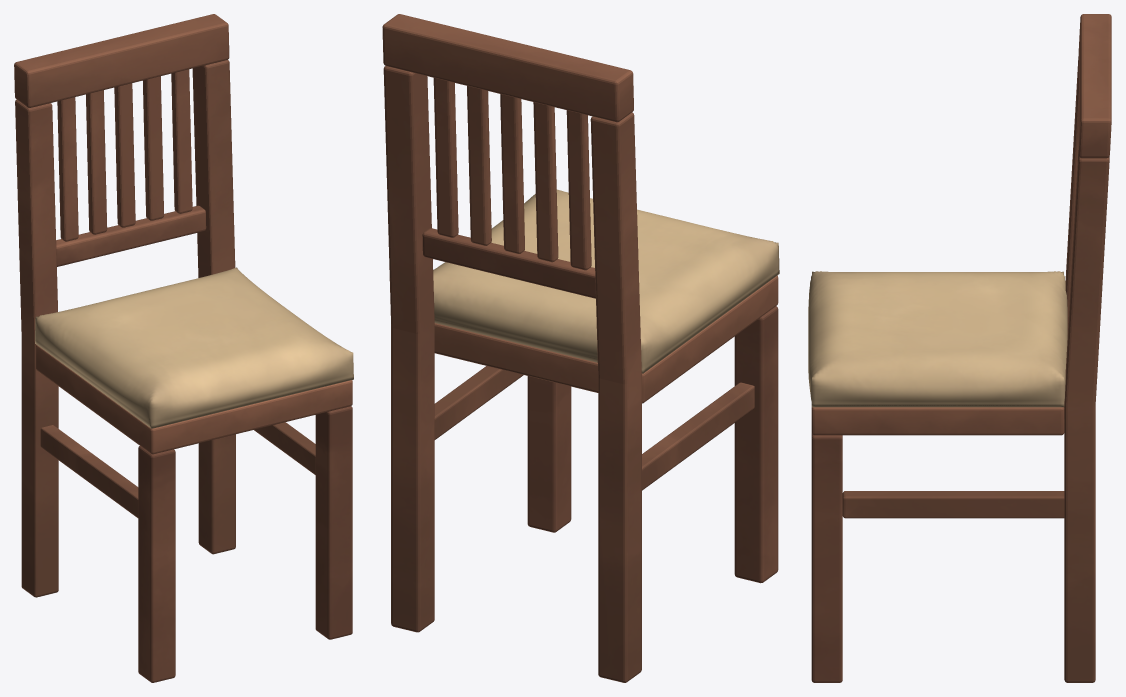
File: chair.fbx
The picture shows the model from 3 angles, left to right: view 1: azimuth 30°, elevation 25°; view 2: azimuth 150°, elevation 25°; view 3: azimuth 270°, elevation 25°; orthographic projection. The views are drawn at different scales.
Parts seen in each view (by area): view 1: Cube.009; view 2: Cube.009; view 3: Cube.009.
Boxes of the visible parts, left/top/right/bottom form: Cube.009: left=14, top=14, right=353, bottom=682; Cube.009: left=382, top=14, right=779, bottom=682; Cube.009: left=808, top=14, right=1111, bottom=682.
Size of the model in its own units: 41.38 by 99.32 by 48.4.
1 material, 1 textured.
